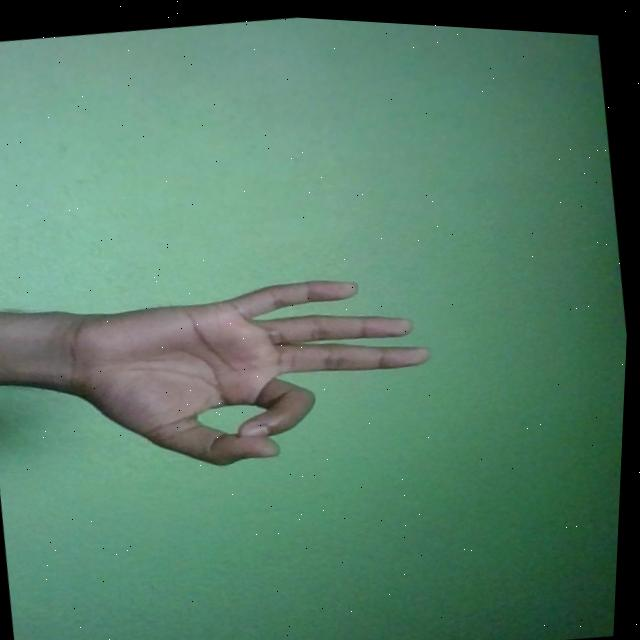Ok: (53, 250, 448, 494)
